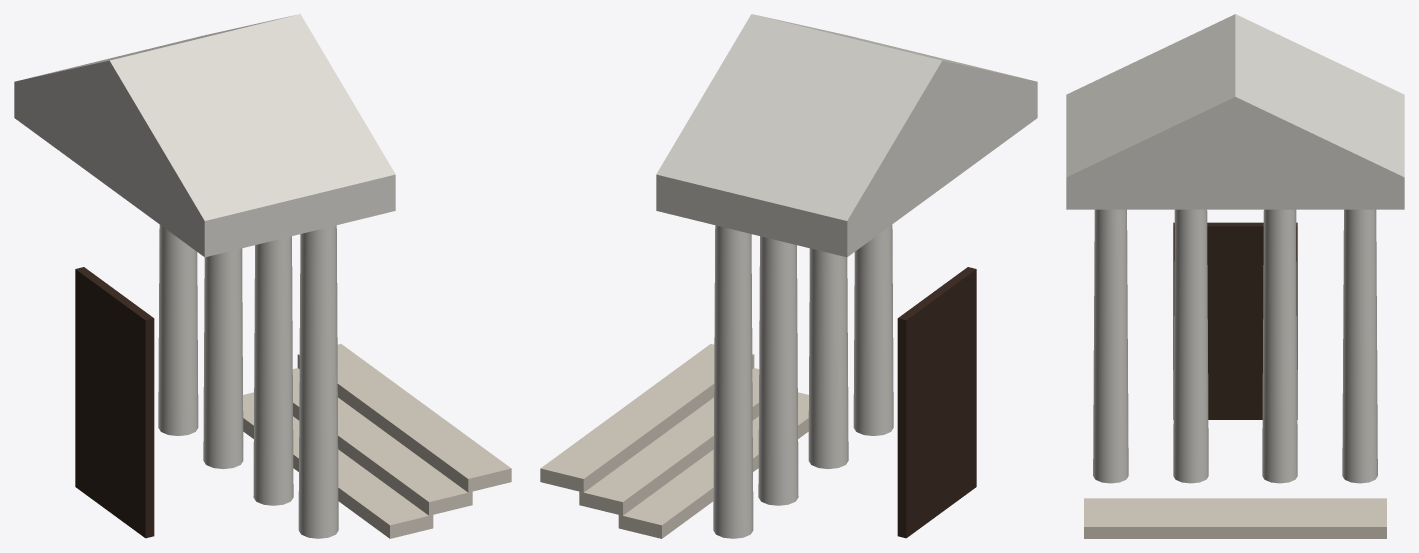
Rendered from villa-porch.obj.
The picture shows the model from 3 angles, left to right: view 1: azimuth 30°, elevation 25°; view 2: azimuth 150°, elevation 25°; view 3: azimuth 270°, elevation 25°; orthographic projection. The views are drawn at different scales.
Visible parts, largest first — view 1: part6, part10.nocast, part5, part4, part3, part9, part2, part1, part8, part7; view 2: part6, part10.nocast, part5, part1, part2, part9, part3, part4, part8, part7; view 3: part6, part10.nocast, part5, part2, part3, part1, part4, part9, part7, part8.
Boxes of the visible parts, box(x1,y1,x2,y2) form: part6: box(15, 14, 395, 220); part10.nocast: box(75, 267, 154, 538); part5: box(14, 82, 395, 257); part4: box(298, 225, 338, 538); part3: box(253, 236, 293, 505); part9: box(297, 344, 511, 492); part2: box(203, 248, 243, 468); part1: box(158, 225, 198, 435); part8: box(292, 368, 472, 515); part7: box(243, 392, 433, 538); part6: box(656, 14, 1036, 220); part10.nocast: box(897, 267, 976, 538); part5: box(656, 82, 1037, 257); part1: box(713, 225, 753, 538); part2: box(758, 236, 798, 505); part9: box(540, 344, 754, 492); part3: box(808, 248, 848, 468); part4: box(853, 225, 893, 435); part8: box(579, 368, 759, 515); part7: box(618, 392, 808, 538); part6: box(1066, 14, 1404, 177); part10.nocast: box(1173, 222, 1297, 419); part5: box(1066, 177, 1404, 209); part2: box(1262, 209, 1297, 483); part3: box(1173, 209, 1208, 483); part1: box(1342, 209, 1377, 483); part4: box(1093, 209, 1128, 483); part9: box(1084, 508, 1386, 538); part7: box(1084, 498, 1386, 503); part8: box(1084, 503, 1386, 507).
Bounding box in the file's own units: 3.65 × 5.1 × 3.8.
